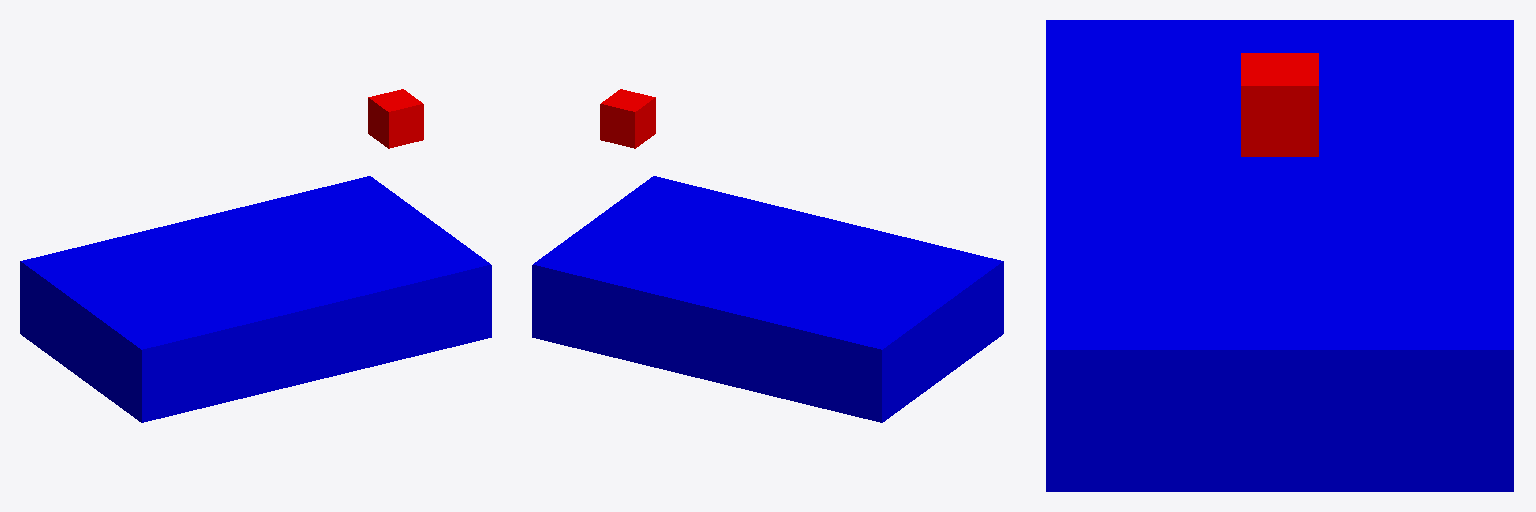
URDF robot description (simple_box):
<?xml version="1.0"?>
<robot name="simple_box">
  <link name="base_link">
    <visual>
      <geometry>
        <box size="0.5 0.3 0.1"/>
      </geometry>
      <material name="blue">
        <color rgba="0 0 1 1"/>
      </material>
    </visual>
  </link>

  <link name="camera-module">
    <visual>
      <geometry>
        <box size="0.05 0.05 0.05"/>
      </geometry>
      <material name="red">
        <color rgba="1 0 0 1"/>
      </material>
    </visual>
  </link>

  <joint name="base_to_camera" type="fixed">
    <parent link="base_link"/>
    <child link="camera-module"/>
    <origin xyz="0.2 0 0.2" rpy="0 0 0"/>
  </joint>
</robot>

--- Render facts (derived) ---
3 views of the same robot in one strip: view 1: azimuth 30°, elevation 25°; view 2: azimuth 150°, elevation 25°; view 3: azimuth 270°, elevation 25° (orthographic).
Robot: simple_box — 2 links, 1 joints (1 fixed); root link base_link; default pose: all joints at 0.
Visible links, largest first — view 1: base_link, camera-module; view 2: base_link, camera-module; view 3: base_link, camera-module.
Boxes of the visible links, x1=… form: base_link: x1=20, y1=176, x2=491, y2=422; camera-module: x1=368, y1=89, x2=423, y2=148; base_link: x1=532, y1=176, x2=1003, y2=422; camera-module: x1=600, y1=89, x2=655, y2=148; base_link: x1=1046, y1=20, x2=1513, y2=491; camera-module: x1=1241, y1=53, x2=1318, y2=156.
Bounding box of the posed robot: 0.5 × 0.3 × 0.275 m (x, y, z).
Geometry: primitives only (box / cylinder / sphere), no mesh files.